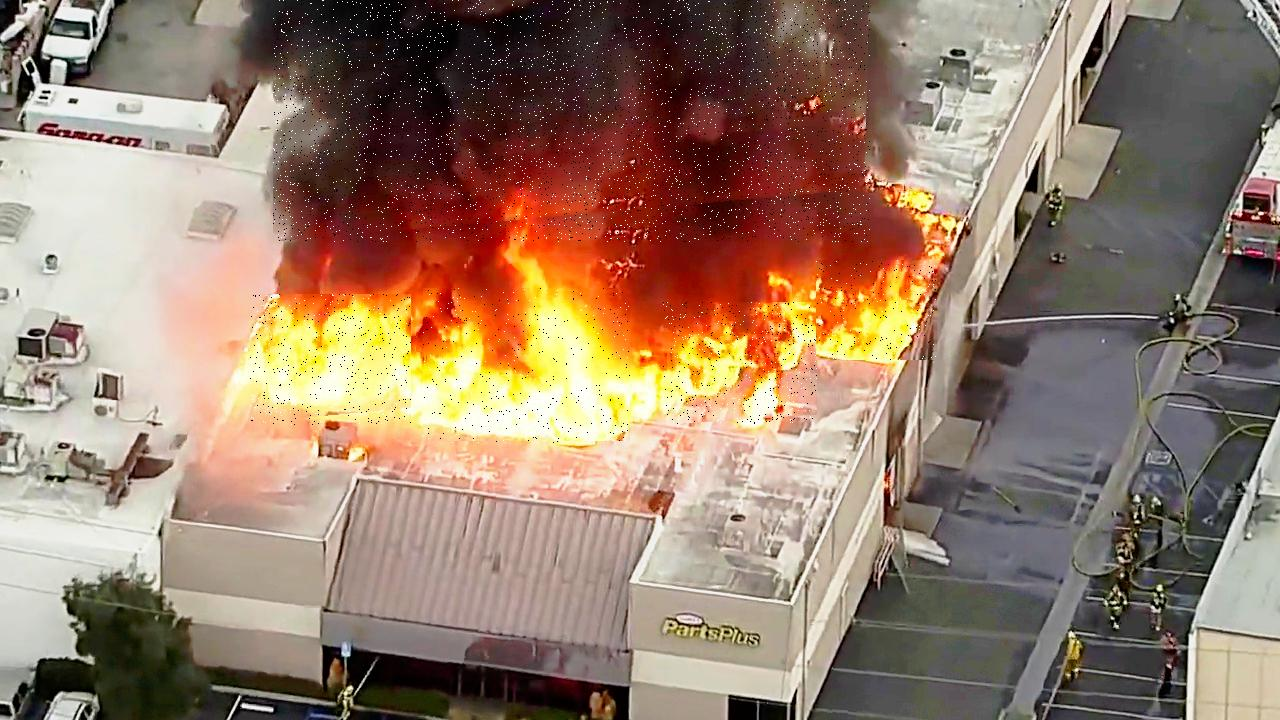fire: (423, 289, 630, 444), (250, 295, 411, 426), (663, 302, 817, 424), (817, 260, 937, 360)
smoke: (273, 0, 870, 242)
